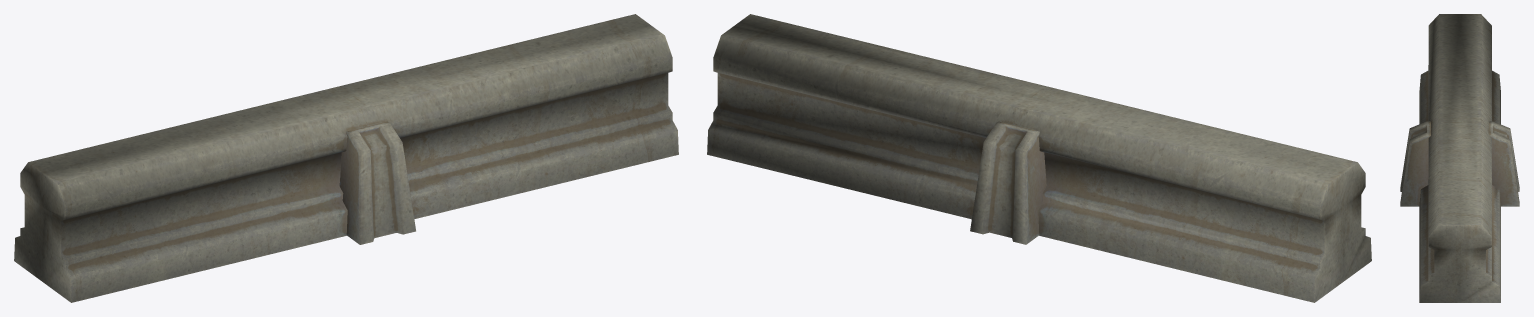
File: AD_Frame_A_01.fbx
3 views of the same model, side by side, from view 1: azimuth 30°, elevation 25°; view 2: azimuth 150°, elevation 25°; view 3: azimuth 270°, elevation 25° (orthographic). The views are drawn at different scales.
Visible parts, largest first — view 1: AD_Frame_A_01; view 2: AD_Frame_A_01; view 3: AD_Frame_A_01.
Part boxes in pixels (left/top/right/bottom): AD_Frame_A_01: left=14, top=14, right=678, bottom=302; AD_Frame_A_01: left=707, top=14, right=1371, bottom=302; AD_Frame_A_01: left=1400, top=14, right=1519, bottom=302.
Size of the model in its own units: 800 by 137 by 191.
1 material, 1 textured.
